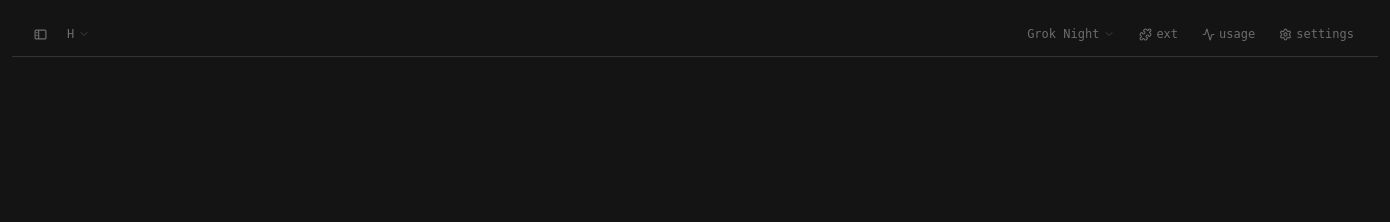
Scenario: TopBar › host 下拉：已登录时提供「切换到访客模式」，点击交给上层
Click the button titled "右键可管理": (79, 34) [61,18,96,50]
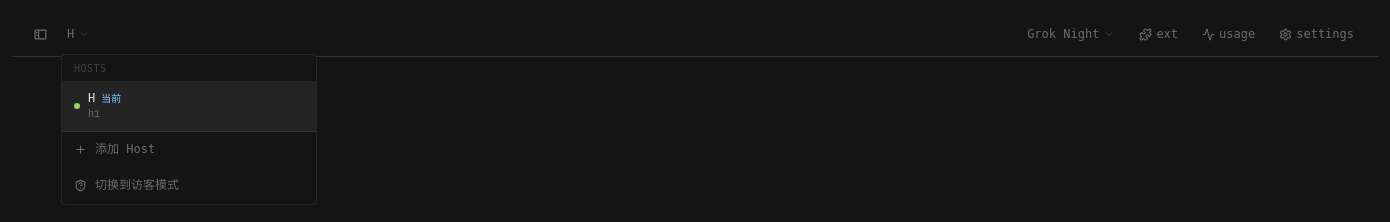
Click the button titled "切换到访客模式": (189, 186) [62,168,316,204]
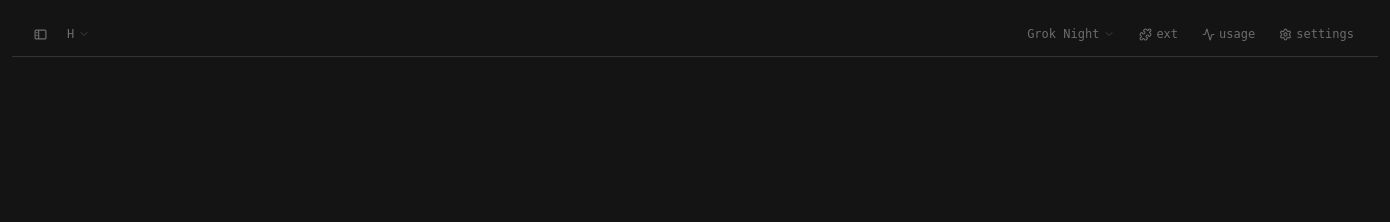
Expected: the text "hosts" is gone
